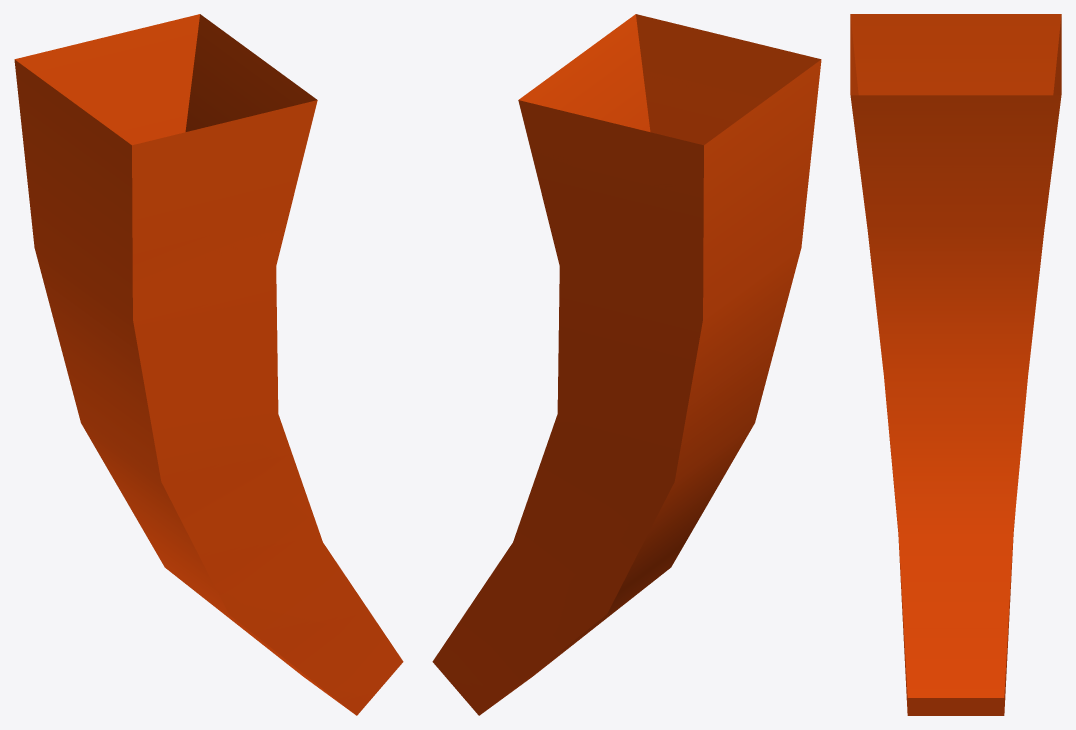
File: AR4_Trigger.fbx
3 renders of one model, left to right at view 1: azimuth 30°, elevation 25°; view 2: azimuth 150°, elevation 25°; view 3: azimuth 270°, elevation 25°, orthographic. The views are drawn at different scales.
Visible parts, largest first — view 1: AR4_Trigger; view 2: AR4_Trigger; view 3: AR4_Trigger.
Part boxes in pixels (bbox=[...]): AR4_Trigger: bbox=[14, 14, 403, 715]; AR4_Trigger: bbox=[432, 14, 821, 715]; AR4_Trigger: bbox=[850, 14, 1061, 715].
Size of the model in its own units: 1.88 by 3.89 by 1.26.
